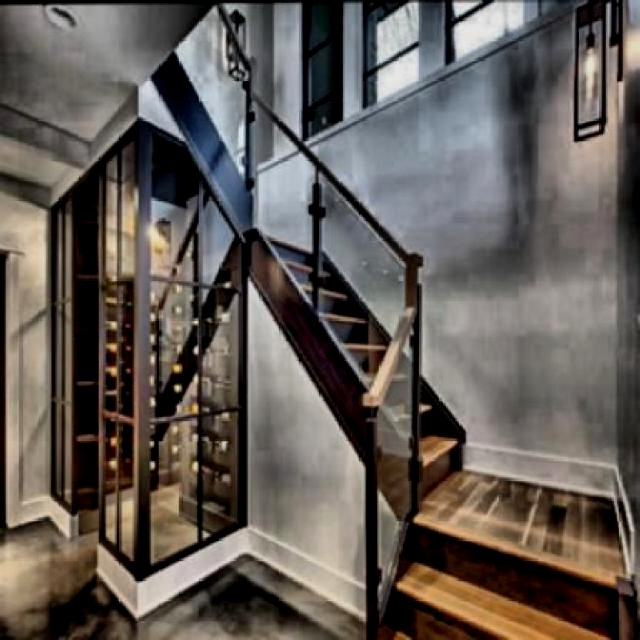stair: (257, 226, 509, 489), (368, 509, 640, 638)
